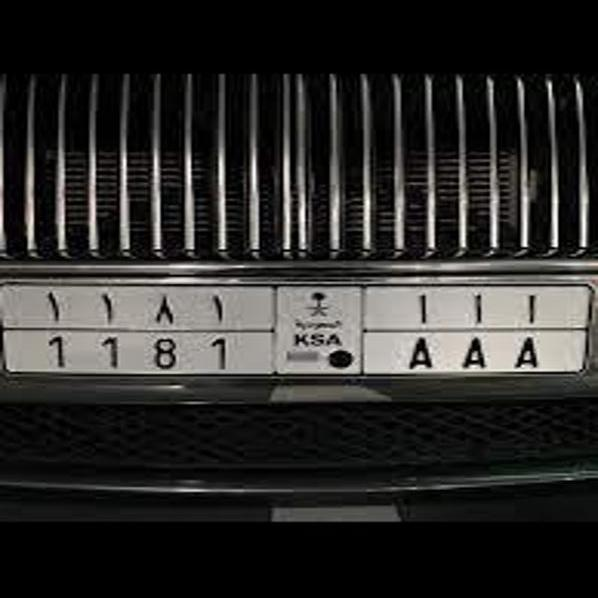numberplate: (32, 287, 559, 373)
